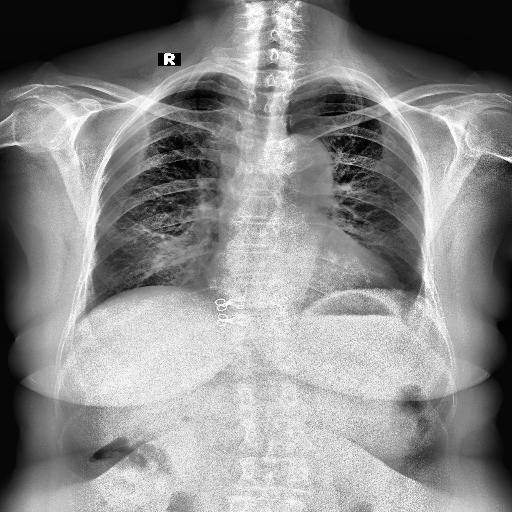0- Aortic enlargement: (270, 132, 330, 196), (270, 132, 330, 188), (277, 134, 333, 190)
3- Cardiomegaly: (203, 267, 404, 314), (206, 251, 403, 298), (202, 266, 396, 298)
